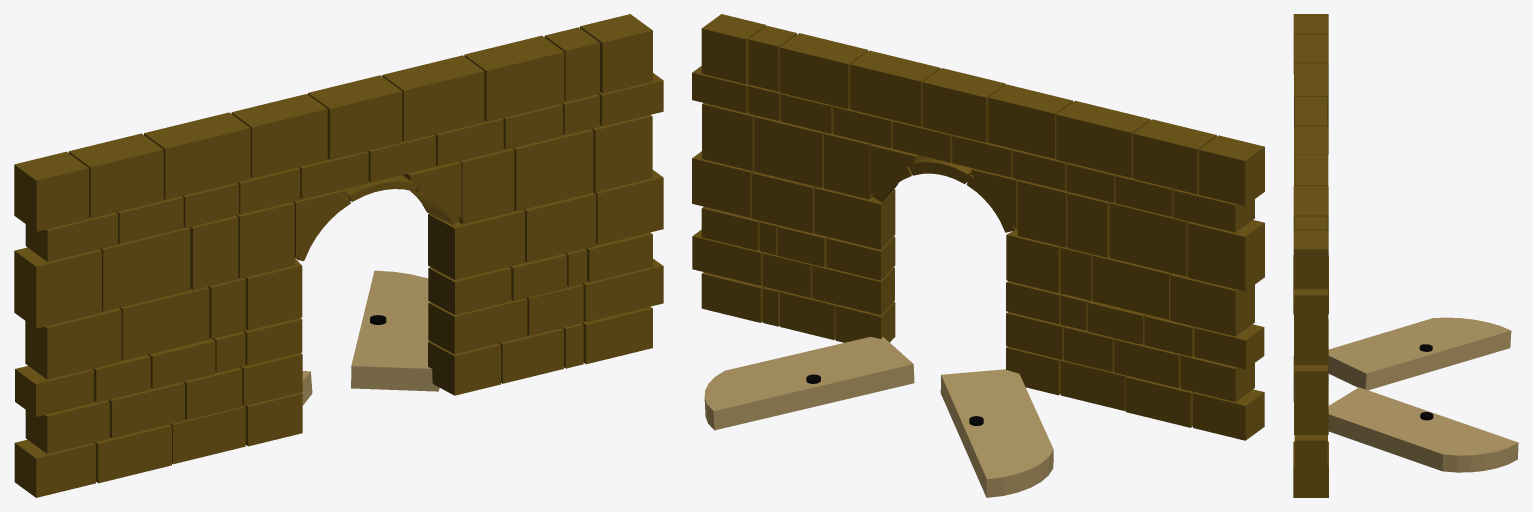
The model's file is DoorsBlasted.fbx.
The picture shows the model from 3 angles, left to right: view 1: azimuth 30°, elevation 25°; view 2: azimuth 150°, elevation 25°; view 3: azimuth 270°, elevation 25°; orthographic projection. The views are drawn at different scales.
Visible parts, largest first — view 1: Wall, Circle.001; view 2: Wall, Circle.001, Circle; view 3: Wall, Circle.001, Circle.
Part boxes in pixels (<box>): Wall: <box>14,14,663,497</box>; Circle.001: <box>351,270,439,391</box>; Wall: <box>692,14,1264,440</box>; Circle.001: <box>704,336,914,430</box>; Circle: <box>940,369,1053,497</box>; Wall: <box>1293,14,1328,497</box>; Circle.001: <box>1328,387,1518,472</box>; Circle: <box>1328,317,1511,390</box>.
Bounding box in the file's own units: 3349 × 1735 × 1329.
